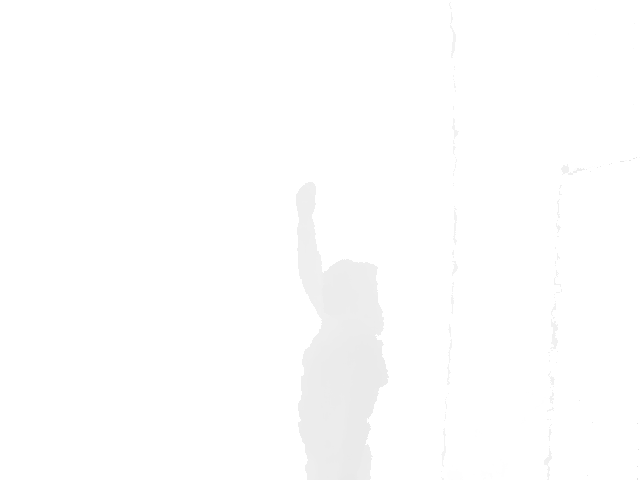hand: (296, 183, 318, 217)
head: (320, 257, 386, 333)
person: (295, 181, 390, 480)
